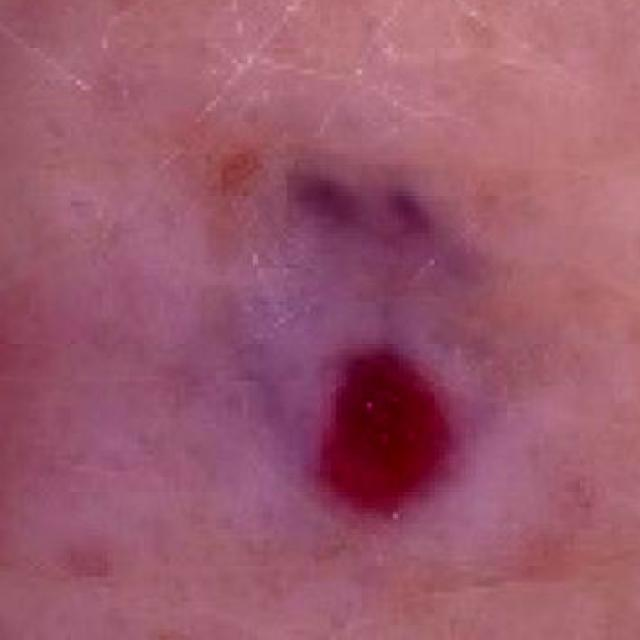VASC: (253, 311, 491, 569)
